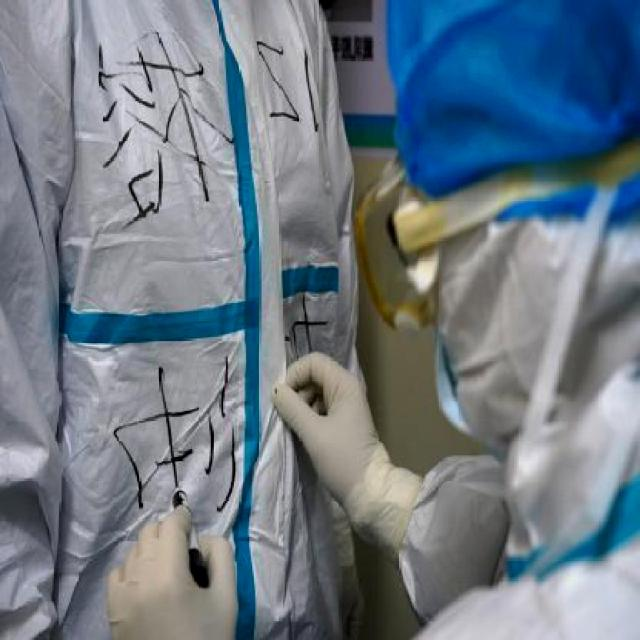hand_glove: (90, 499, 242, 639), (271, 348, 387, 528)
